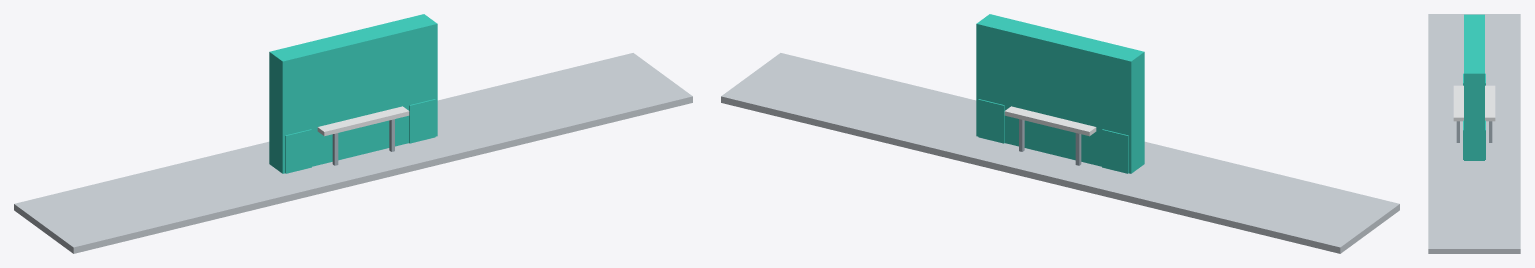
3 views of the same model, side by side, from view 1: azimuth 30°, elevation 25°; view 2: azimuth 150°, elevation 25°; view 3: azimuth 270°, elevation 25° (orthographic). The views are drawn at different scales.
Visible parts, largest first — view 1: Exhibition Booth Concept; view 2: Exhibition Booth Concept; view 3: Exhibition Booth Concept.
Part boxes in pixels (bbox=[...]): Exhibition Booth Concept: bbox=[14, 14, 692, 253]; Exhibition Booth Concept: bbox=[721, 14, 1399, 253]; Exhibition Booth Concept: bbox=[1428, 14, 1520, 253].
Size of the model in its own units: 12 by 2.2 by 2.
